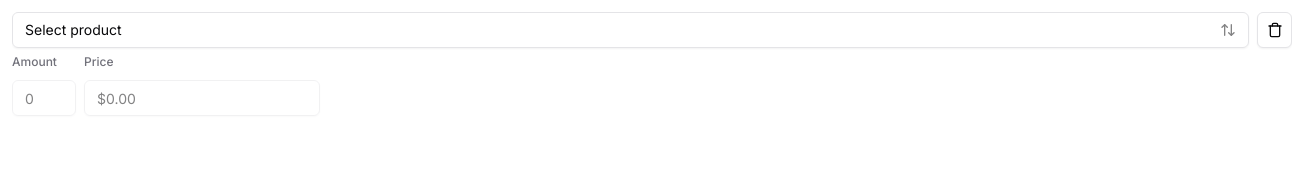
Scenario: OrderProductField › updates amount and price correctly
Click the dropdown at (73, 30), box [12,12,1249,48]
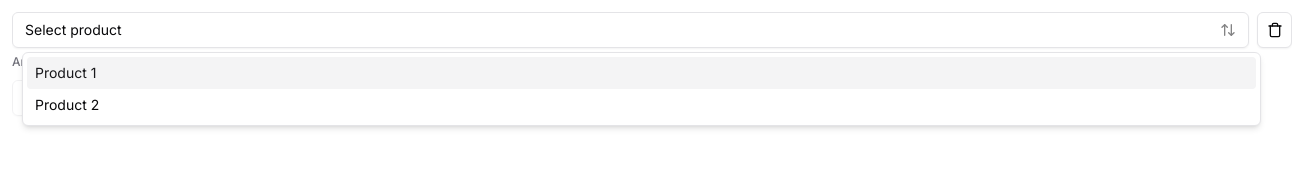
Click the option "Product 1" at (66, 72), box [27,57,1256,89]
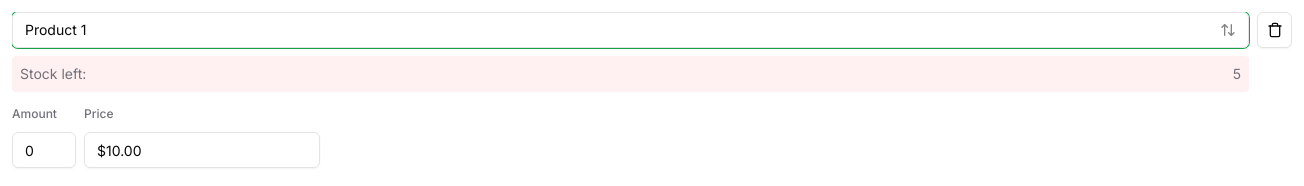
Replace the text in the number field with placeholder "Amount" with "3" at (44, 150), box [12,132,76,168]
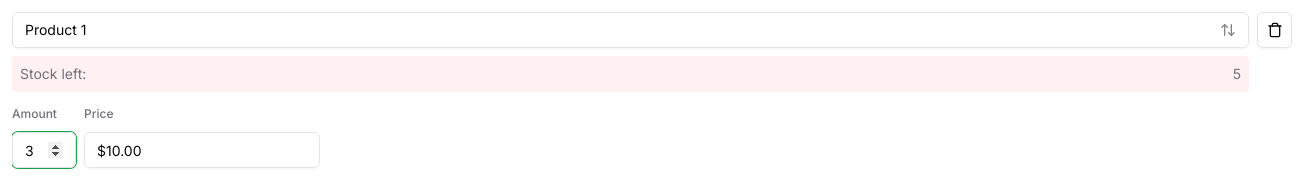
Replace the text in the field labelled "Price" with "12.34" at (202, 150), box [84,132,320,168]
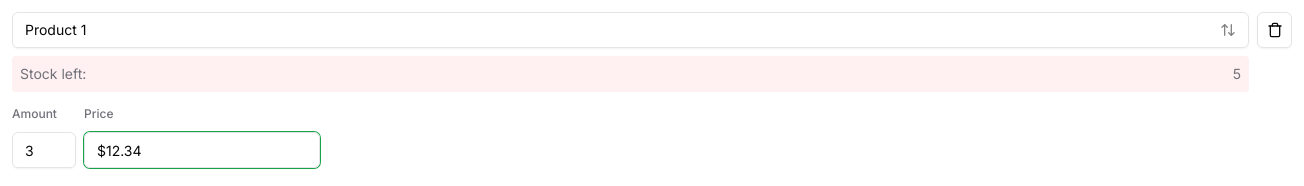
Check: the field labelled "Price" holds "$12.34", box [84,132,320,168]
